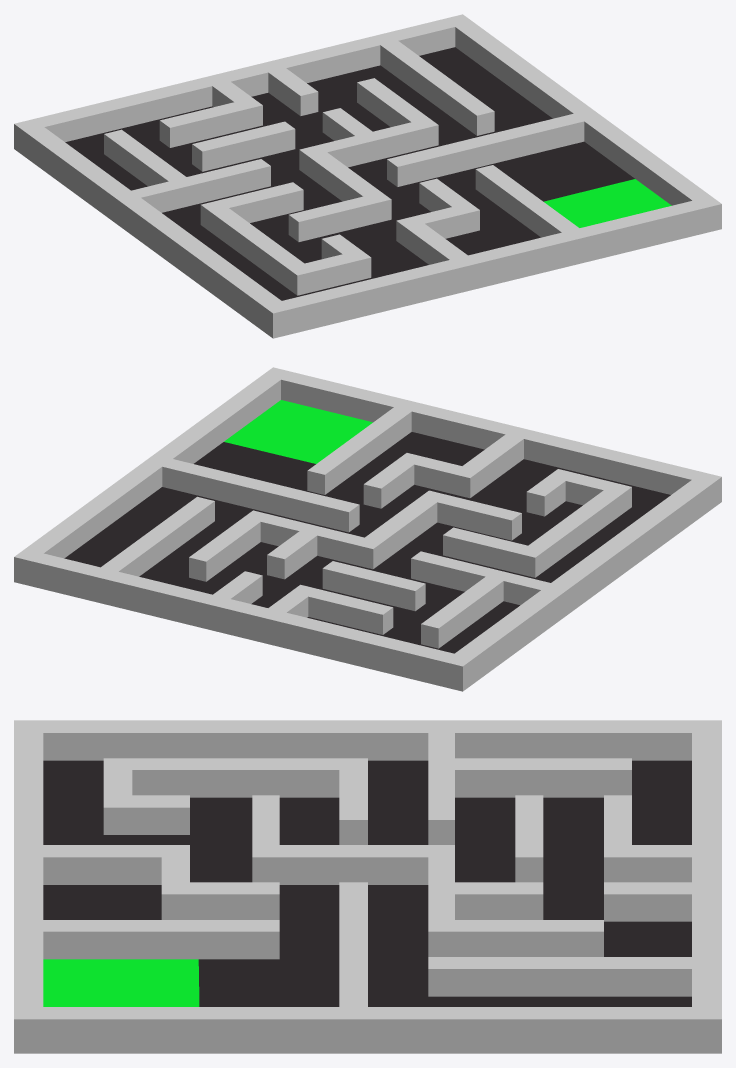
File: mazespike.fbx
The picture shows the model from 3 angles, top to bottom: view 1: azimuth 30°, elevation 25°; view 2: azimuth 150°, elevation 25°; view 3: azimuth 270°, elevation 25°; orthographic projection. The views are drawn at different scales.
Visible parts, largest first — view 1: Plane.002; view 2: Plane.002; view 3: Plane.002.
Boxes of the visible parts, left/top/right/bottom form: Plane.002: left=14, top=14, right=721, bottom=338; Plane.002: left=14, top=367, right=721, bottom=691; Plane.002: left=14, top=720, right=721, bottom=1053.
Size of the model in its own units: 1851 by 99.26 by 1851.
